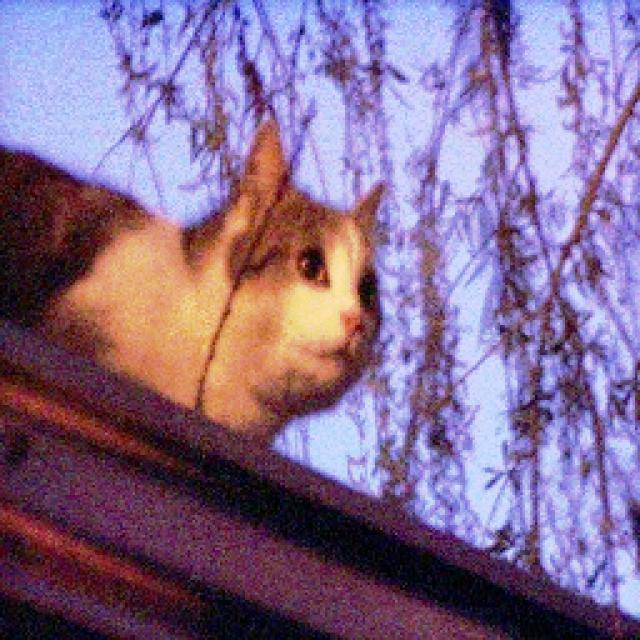cat: (2, 97, 386, 456)
